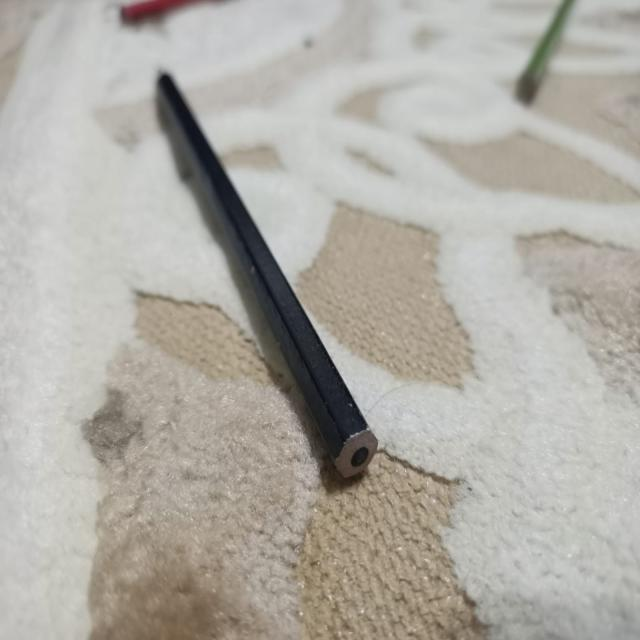pencil: (156, 73, 377, 479)
